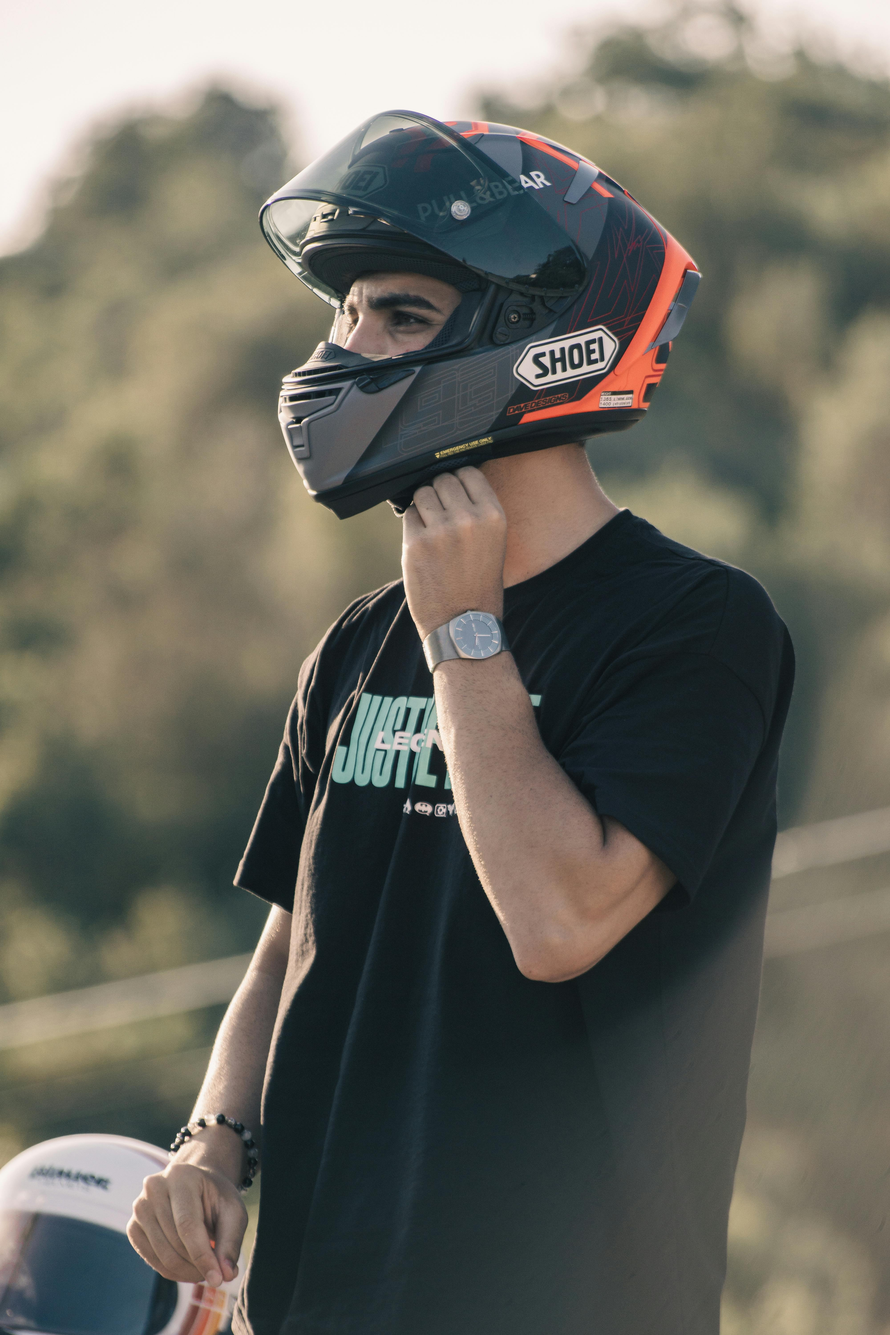helmets: (230, 101, 713, 528)
